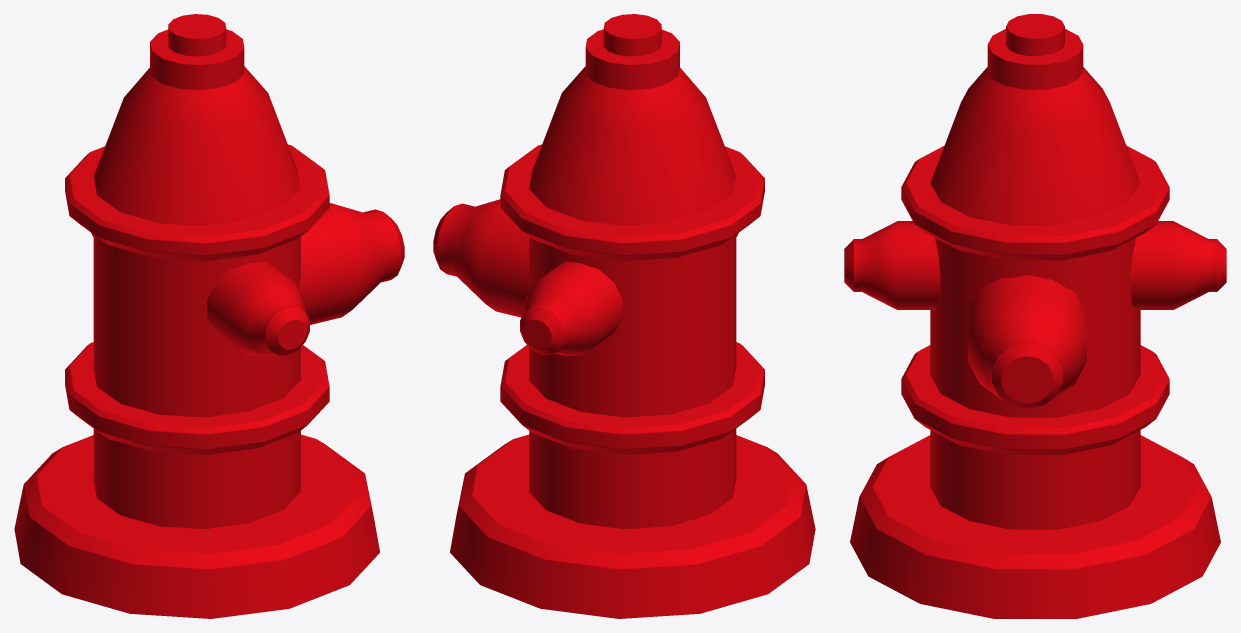
Rendered from Fire hydrant.fbx.
3 renders of one model, left to right at view 1: azimuth 30°, elevation 25°; view 2: azimuth 150°, elevation 25°; view 3: azimuth 270°, elevation 25°, orthographic.
Parts seen in each view (by area): view 1: Cylinder; view 2: Cylinder; view 3: Cylinder.
Part boxes in pixels (bbox=[...]): Cylinder: bbox=[14, 14, 404, 618]; Cylinder: bbox=[433, 14, 815, 618]; Cylinder: bbox=[844, 14, 1226, 618].
Size of the model in its own units: 216 by 307 by 206.
